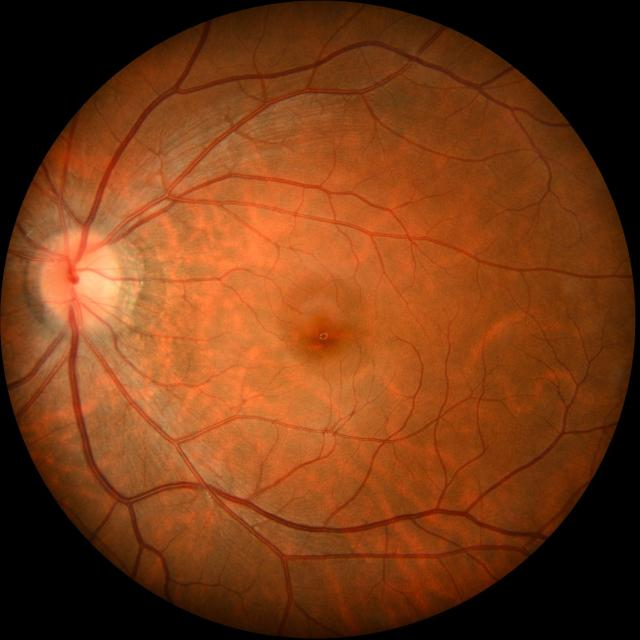OC: (72, 259, 106, 299)
OD: (39, 229, 121, 329)
